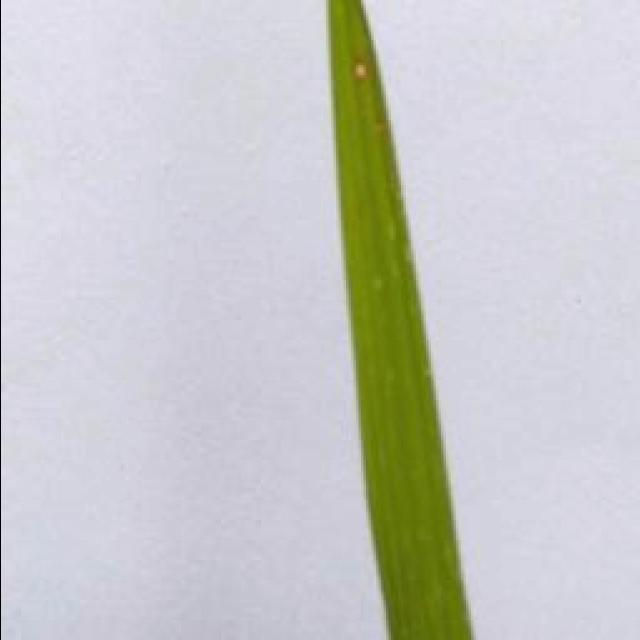Unhealthy: (351, 60, 373, 83)
